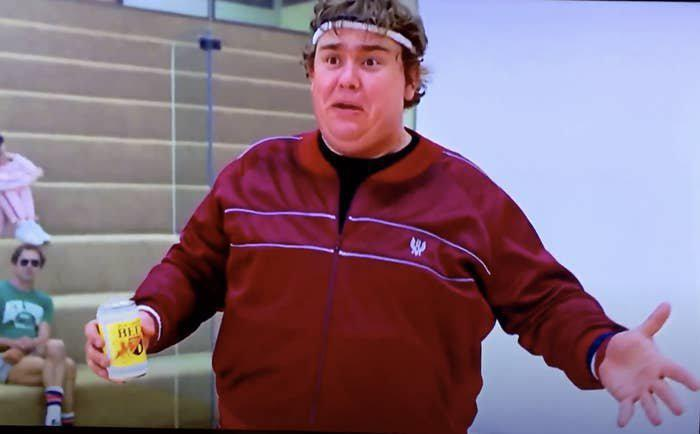Drunk: (314, 27, 400, 145)
